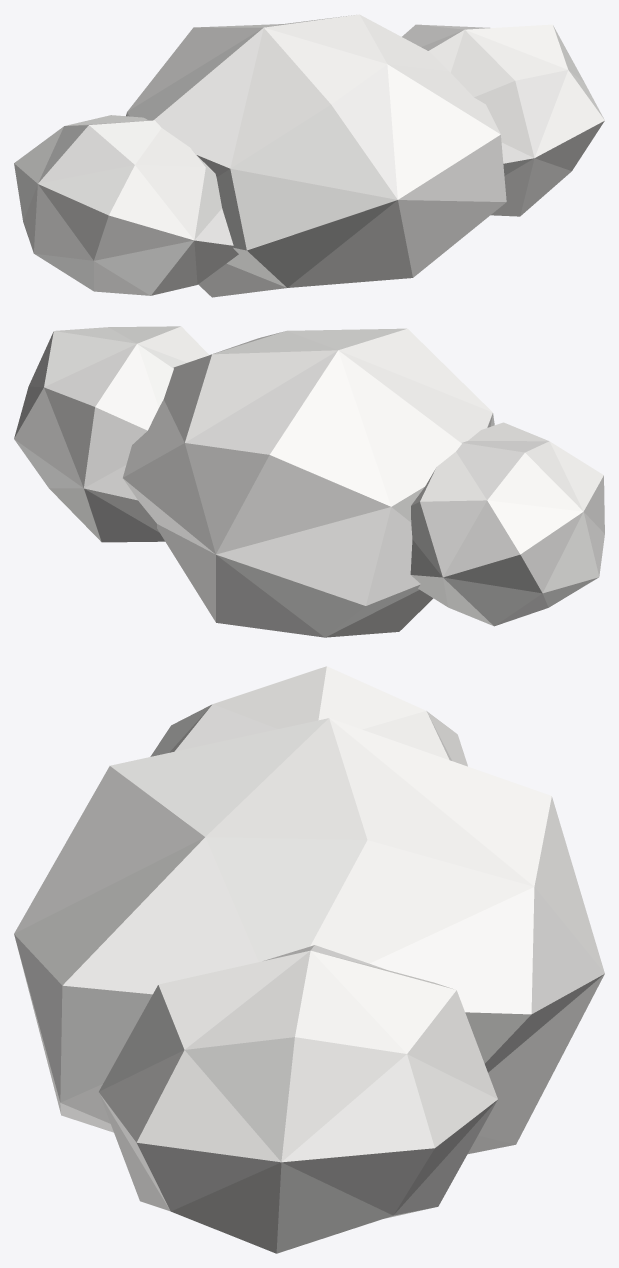
File: Isl_10_Cloud_2.fbx
The picture shows the model from 3 angles, top to bottom: view 1: azimuth 30°, elevation 25°; view 2: azimuth 150°, elevation 25°; view 3: azimuth 270°, elevation 25°; orthographic projection. The views are drawn at different scales.
Parts seen in each view (by area): view 1: Isl_10_Cloud_2; view 2: Isl_10_Cloud_2; view 3: Isl_10_Cloud_2.
Boxes of the visible parts, x1,y1,x2,y2 form: Isl_10_Cloud_2: (14,14,604,297); Isl_10_Cloud_2: (14,326,604,637); Isl_10_Cloud_2: (14,666,604,1253).
Bounding box in the file's own units: 760 × 433 × 339.
Materials: 1 (1 with a texture image).
